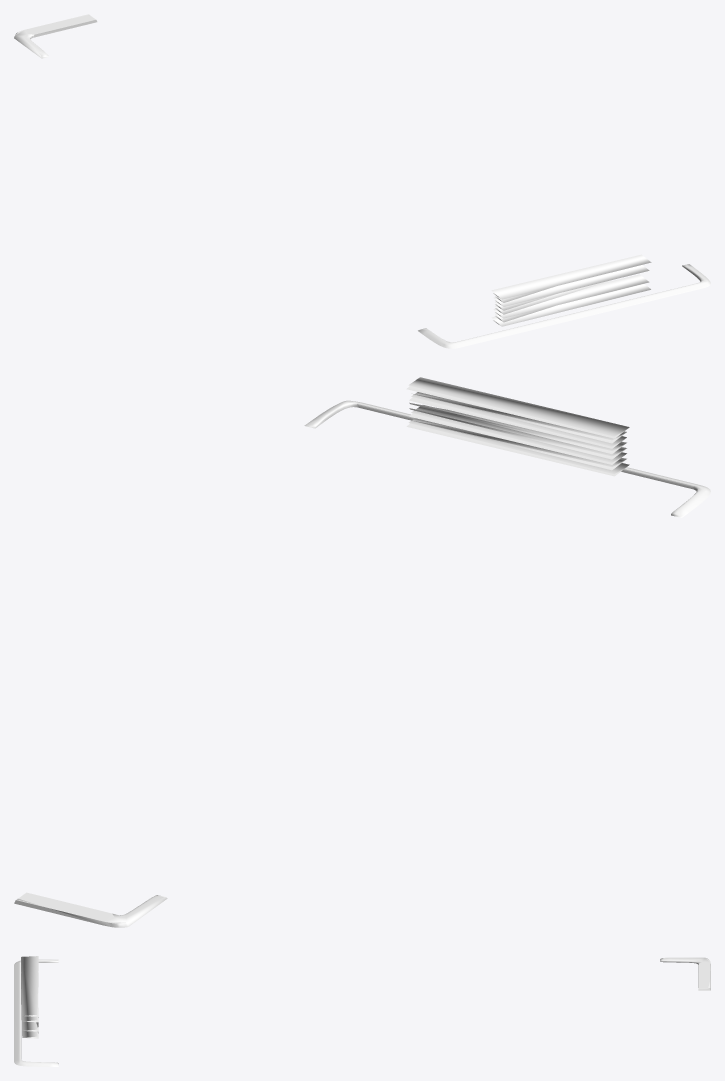
3 views of the same model, one above another, from view 1: azimuth 30°, elevation 25°; view 2: azimuth 150°, elevation 25°; view 3: azimuth 270°, elevation 25° (orthographic). The views are drawn at different scales.
Bounding box in the file's own units: 1.52 × 0.1857 × 4.13.
Materials: 1 (1 with a texture image).
